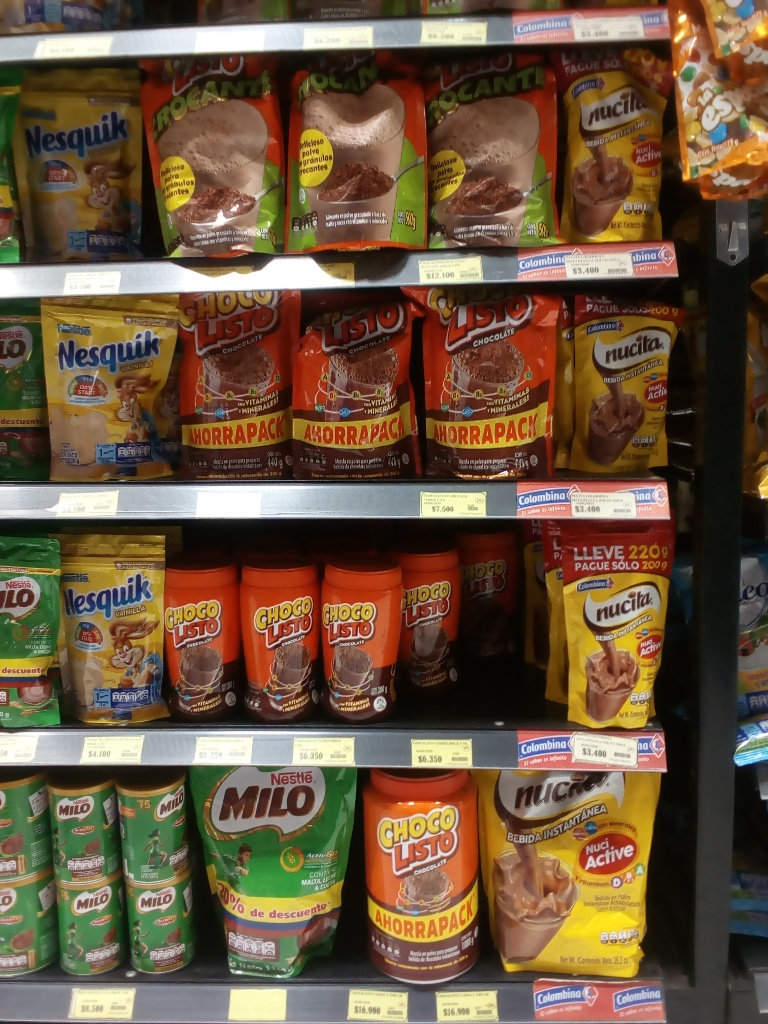COL0170102DYP50000: (147, 58, 283, 257)
COL0170103DYP44000: (179, 293, 297, 481)
COL0170103TRR00100: (366, 770, 492, 986)
COL0170203LAT20000: (45, 776, 113, 886)
COL0170203LAT40000: (1, 877, 54, 979)
COL0170306DYP20000: (37, 298, 173, 481)
